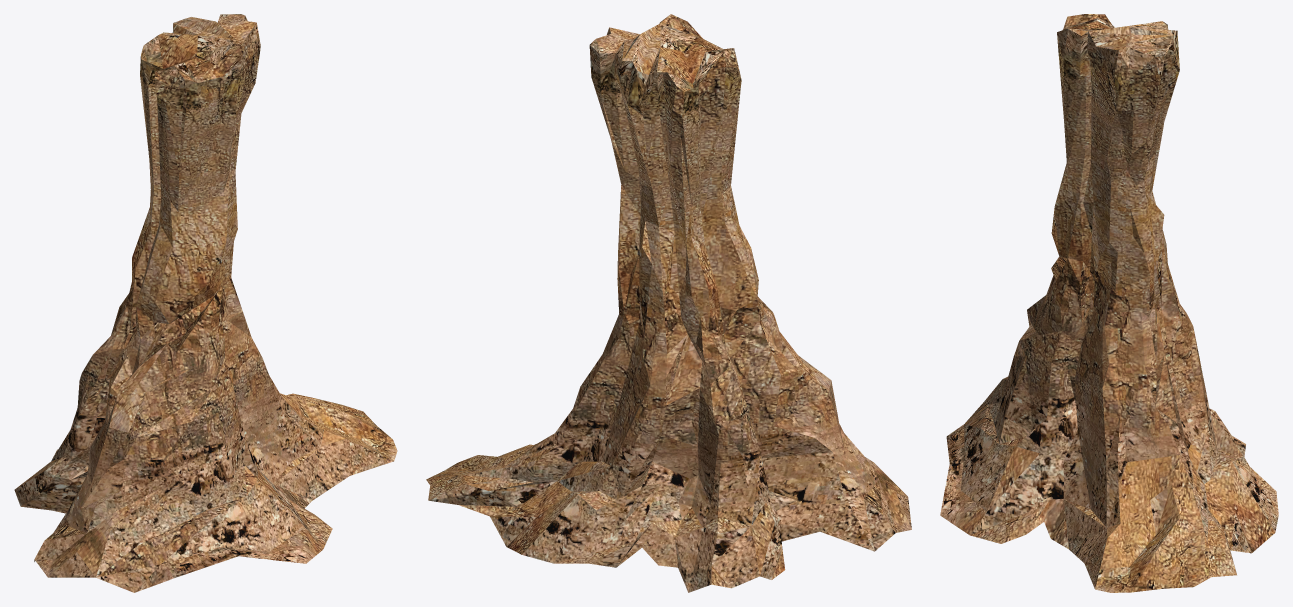
Rendered from eaw_rockSpire.glb.
The picture shows the model from 3 angles, left to right: view 1: azimuth 30°, elevation 25°; view 2: azimuth 150°, elevation 25°; view 3: azimuth 270°, elevation 25°; orthographic projection. The views are drawn at different scales.
Visible parts, largest first — view 1: Tat_RockForm01_0; view 2: Tat_RockForm01_0; view 3: Tat_RockForm01_0.
Part boxes in pixels (bbox=[...]): Tat_RockForm01_0: bbox=[14, 14, 397, 592]; Tat_RockForm01_0: bbox=[426, 14, 911, 592]; Tat_RockForm01_0: bbox=[940, 14, 1278, 592].
Size of the model in its own units: 38.21 by 44.51 by 27.49.
Materials: 1 (1 with a texture image).
